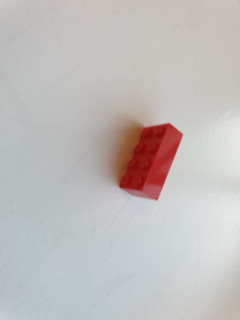2x4 red: (119, 123, 187, 202)
